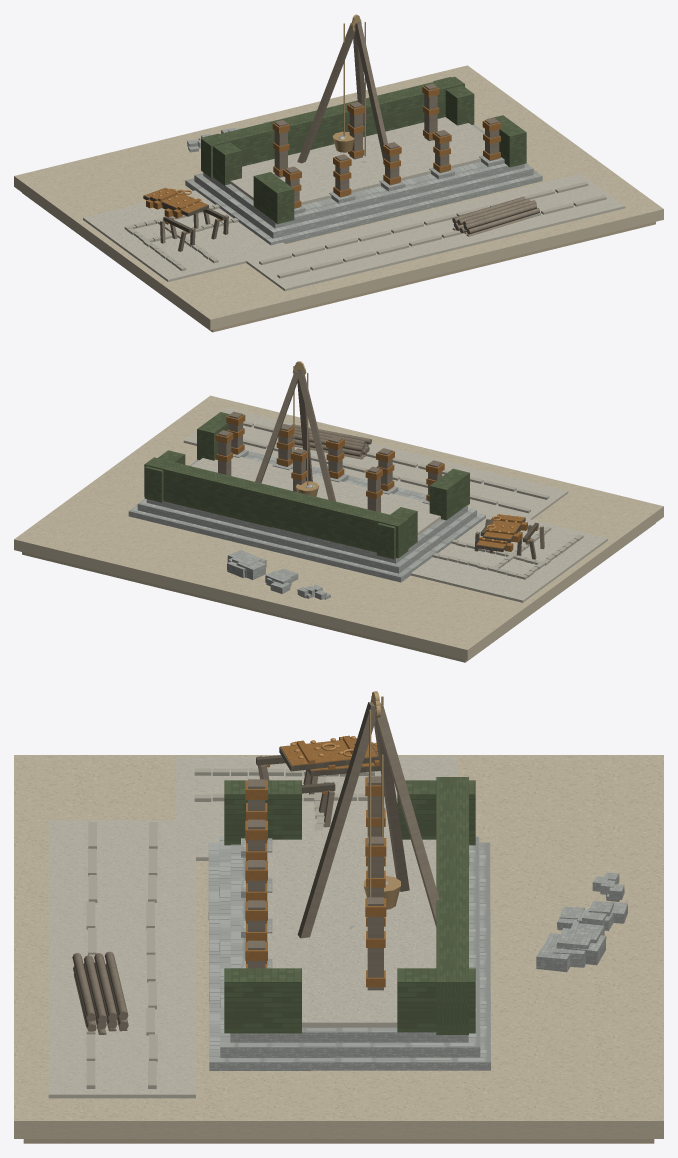
File: lin-1-construction.glb
3 views of the same model, one above another, from view 1: azimuth 30°, elevation 25°; view 2: azimuth 150°, elevation 25°; view 3: azimuth 270°, elevation 25° (orthographic). The views are drawn at different scales.
Size of the model in its own units: 40 by 15.03 by 30.
Materials: 25 (18 with a texture image).
